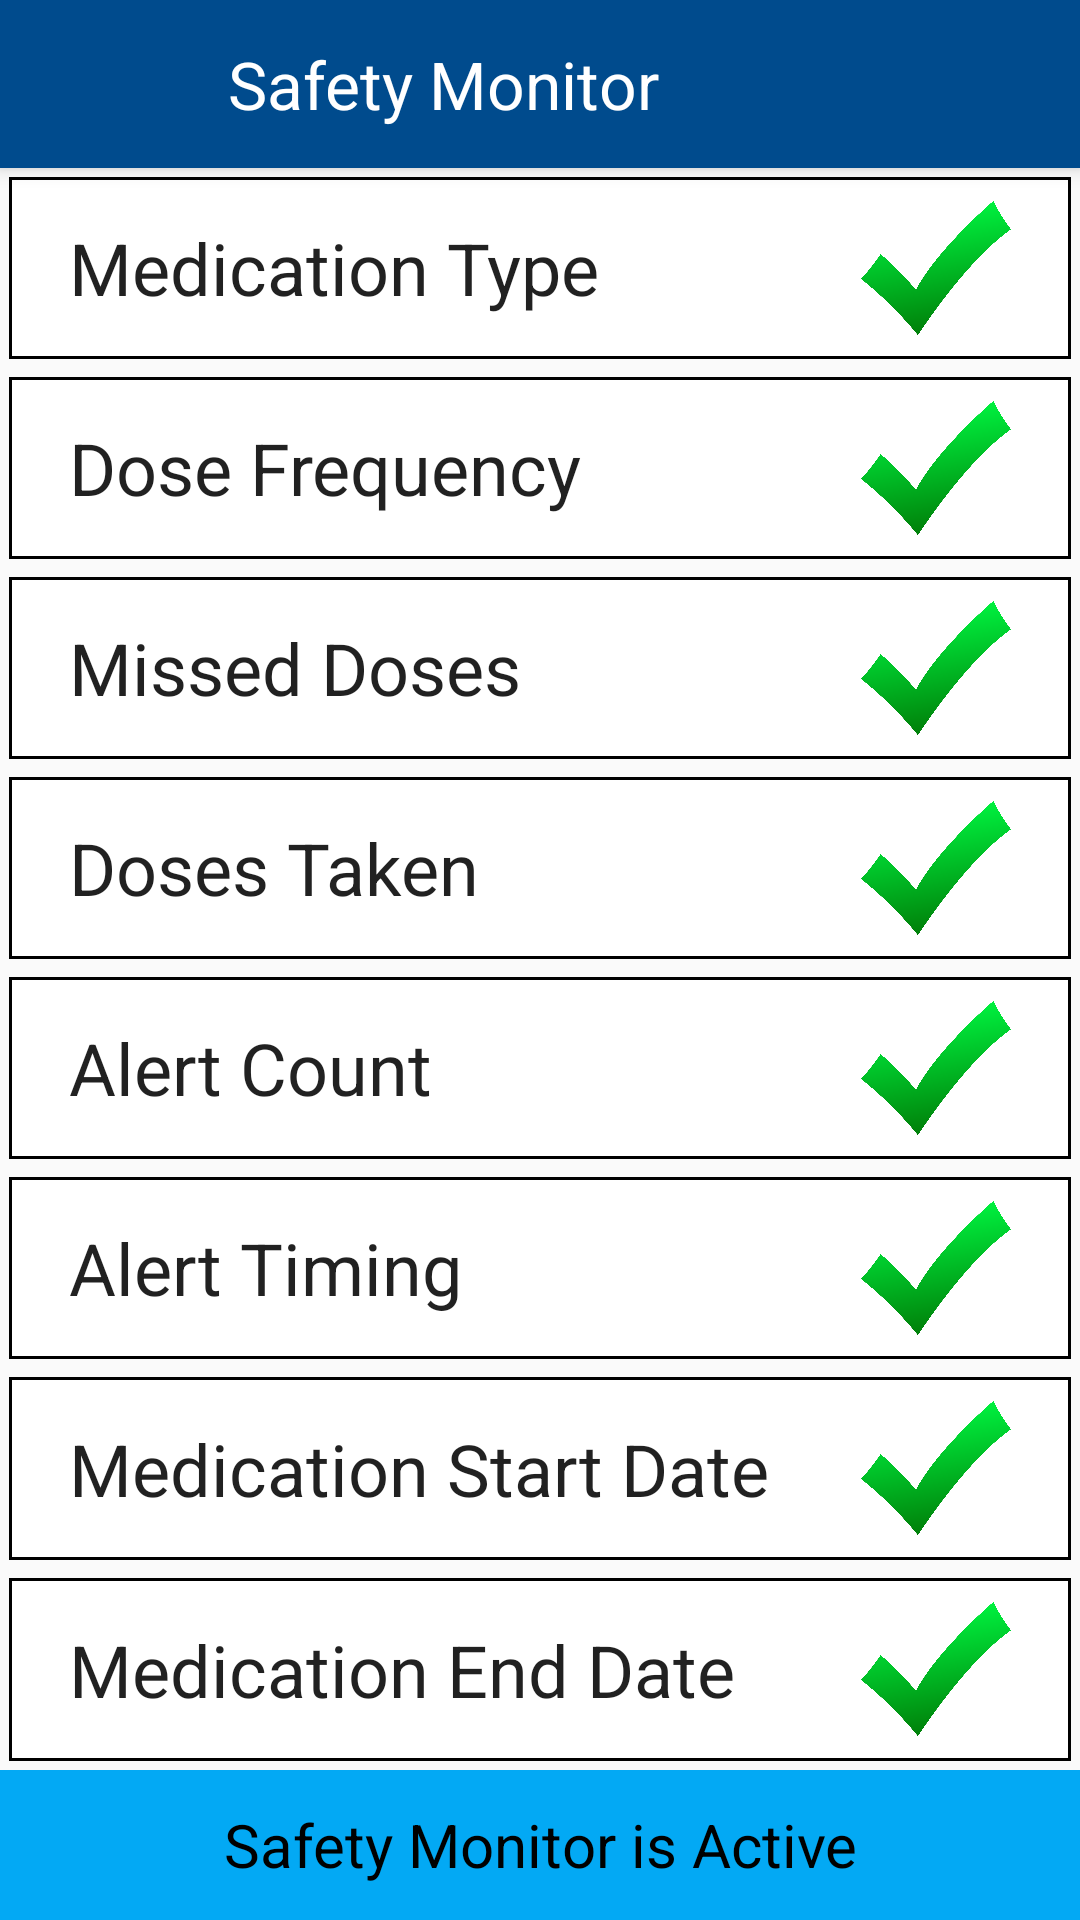

Screen size 1080 × 1920. Icon name, then its center in pixels as point (x, y):
tick: point (936, 268), point (936, 468), point (936, 668), point (936, 868), point (936, 1068), point (936, 1268), point (936, 1468), point (936, 1669)
